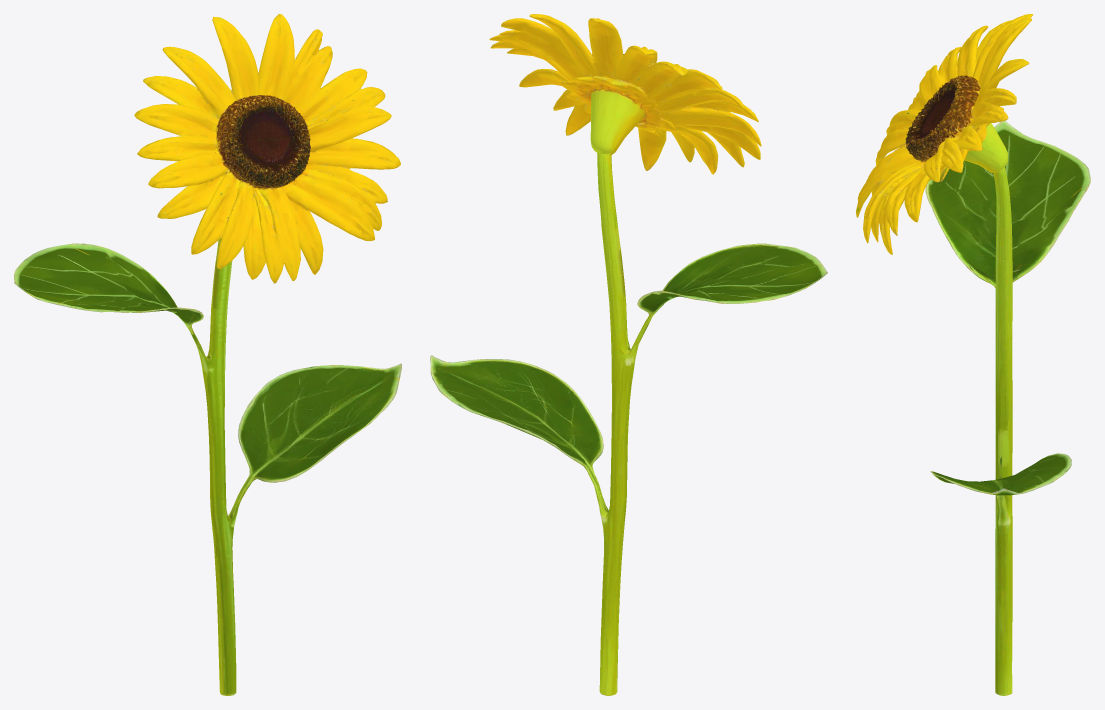
File: rudbeckia-06.glb
The picture shows the model from 3 angles, left to right: view 1: azimuth 30°, elevation 25°; view 2: azimuth 150°, elevation 25°; view 3: azimuth 270°, elevation 25°; orthographic projection. The views are drawn at different scales.
Bounding box in the file's own units: 1.15 × 1.9 × 0.5993.
1 material, 1 textured.
